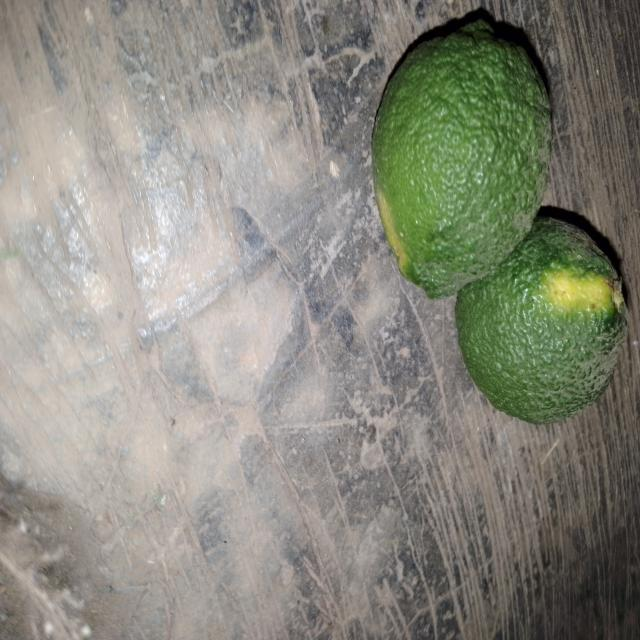Unripe: (360, 4, 563, 345), (447, 205, 640, 441)
